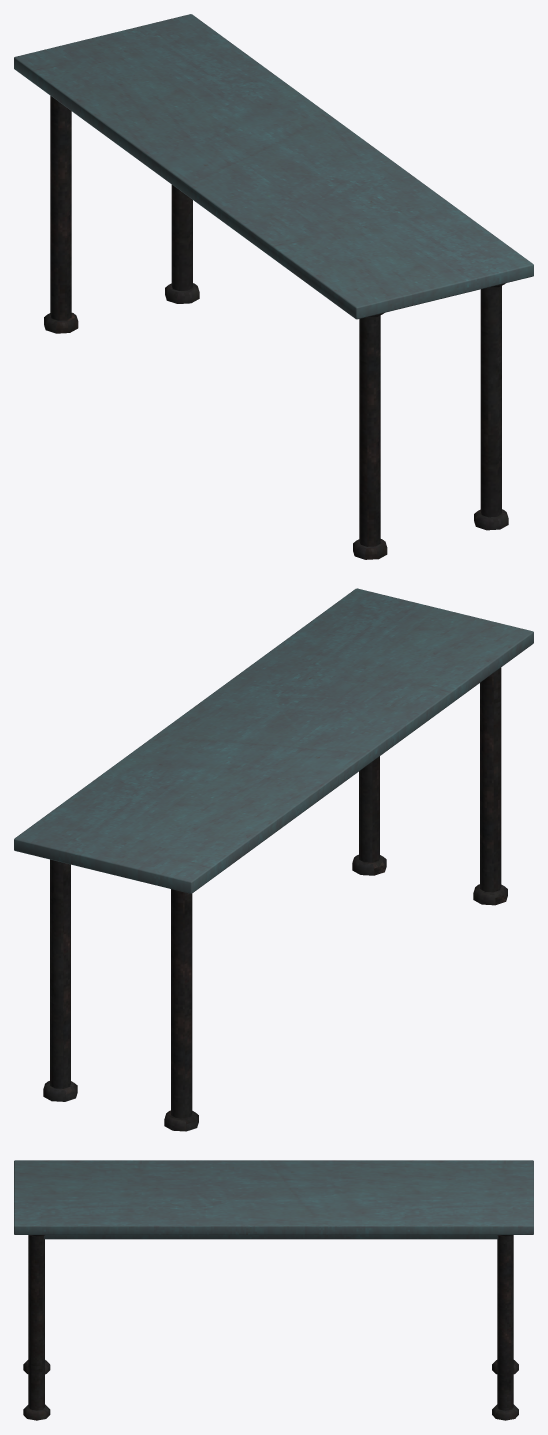
File: _Table_4.FBX
3 renders of one model, top to bottom at view 1: azimuth 30°, elevation 25°; view 2: azimuth 150°, elevation 25°; view 3: azimuth 270°, elevation 25°, orthographic. The views are drawn at different scales.
Visible parts, largest first — view 1: _Table_4; view 2: _Table_4; view 3: _Table_4.
Part boxes in pixels (left/top/right/bottom): _Table_4: left=14, top=14, right=533, bottom=559; _Table_4: left=14, top=588, right=533, bottom=1131; _Table_4: left=14, top=1160, right=533, bottom=1420.
Size of the model in its own units: 150 by 212 by 500.
Materials: 2 (2 with a texture image).
